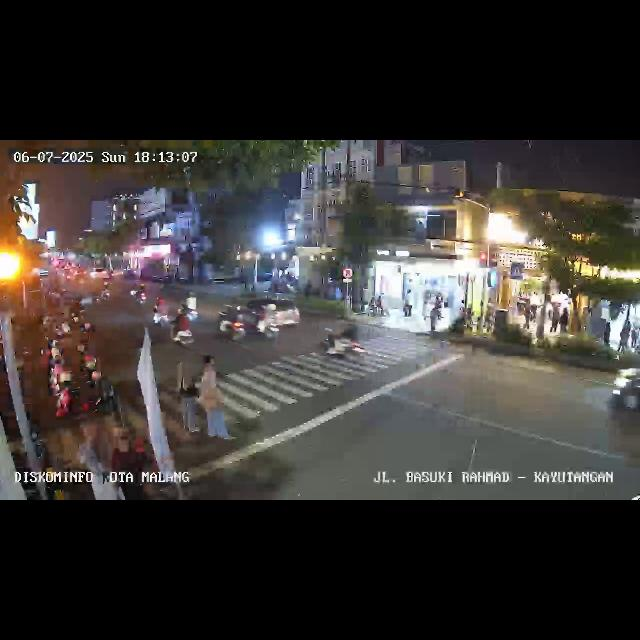car: (230, 297, 300, 341)
motorcycle: (318, 320, 366, 368), (608, 359, 640, 417), (216, 302, 248, 346), (249, 300, 281, 344), (170, 306, 194, 350), (177, 292, 200, 322), (151, 295, 171, 329), (130, 283, 148, 307), (96, 281, 112, 305)
person: (76, 416, 104, 499), (202, 371, 234, 441), (178, 361, 200, 433), (429, 298, 441, 332), (198, 356, 220, 374), (558, 305, 570, 335), (524, 301, 534, 335), (402, 288, 413, 318), (548, 303, 558, 335), (620, 322, 630, 352), (602, 320, 612, 348), (632, 322, 640, 352)
